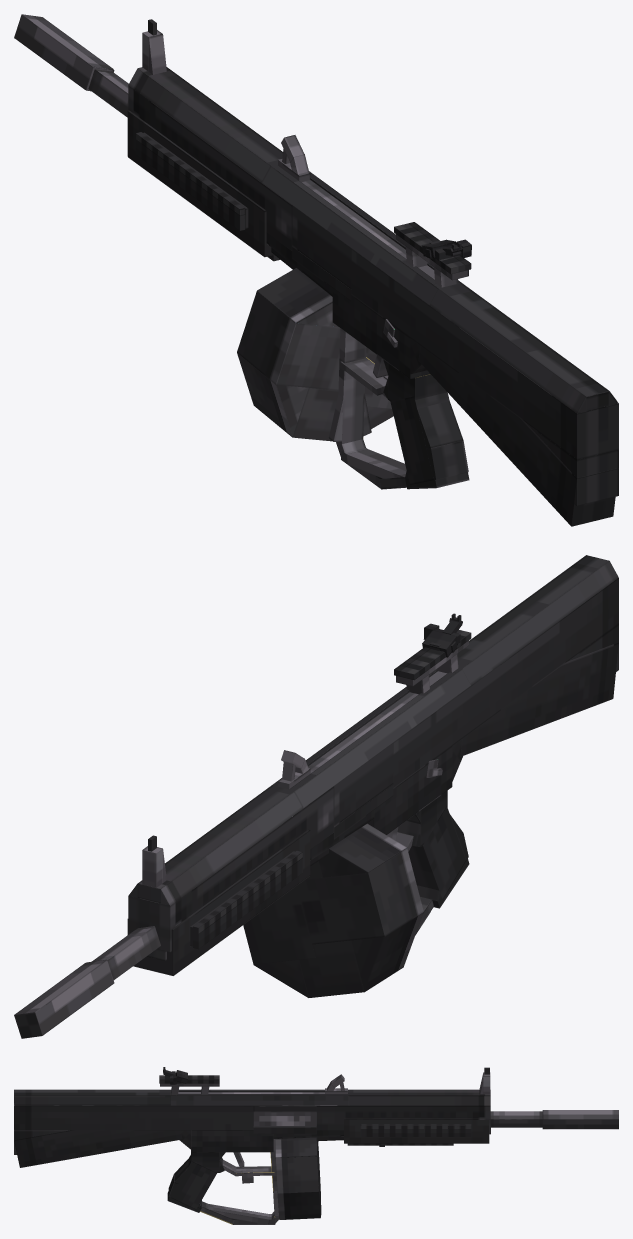
3 renders of one model, top to bottom at view 1: azimuth 30°, elevation 25°; view 2: azimuth 150°, elevation 25°; view 3: azimuth 270°, elevation 25°, orthographic. The views are drawn at different scales.
Visible parts, largest first — view 1: gun, magazine, rails, bolt, ironsights; view 2: gun, magazine, rails, ironsights, bolt; view 3: gun, rails, magazine, action, ironsights, bolt.
Boxes of the visible parts, <box> form: gun: <box>14,14,618,526</box>; magazine: <box>237,268,393,441</box>; rails: <box>127,104,290,261</box>; bolt: <box>278,135,406,258</box>; ironsights: <box>142,19,471,261</box>; gun: <box>14,555,618,1038</box>; magazine: <box>243,823,423,997</box>; rails: <box>127,824,310,975</box>; ironsights: <box>142,613,462,887</box>; bolt: <box>278,692,418,789</box>; gun: <box>14,1075,618,1224</box>; rails: <box>344,1118,489,1145</box>; magazine: <box>275,1137,321,1219</box>; action: <box>253,1112,316,1125</box>; ironsights: <box>163,1067,490,1094</box>; bolt: <box>208,1074,347,1093</box>.
Bounding box in the file's own units: 99.4 × 186 × 663.
1 material, 1 textured.
